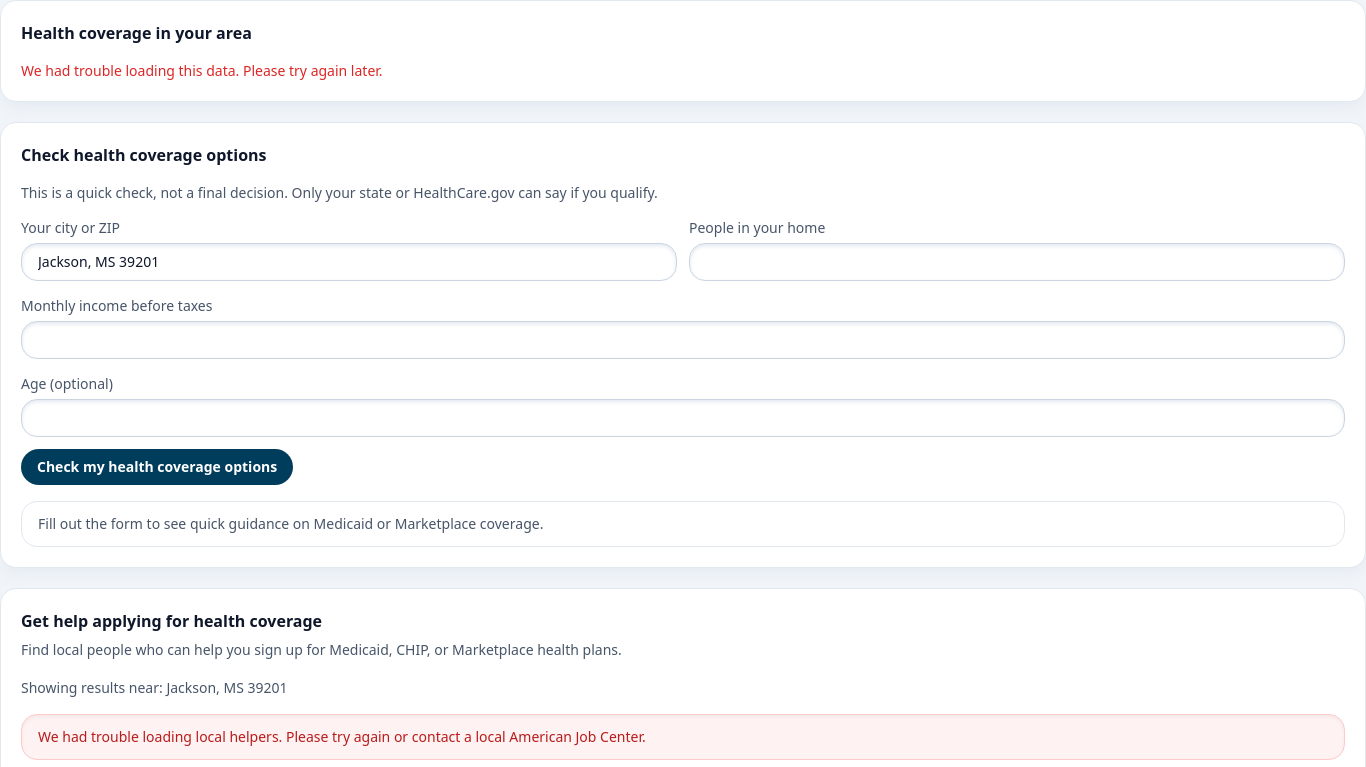
HealthCoveragePanel screener › shows summary after a successful check
Replace the text in the field labelled "Your city or ZIP" with "Jackson, MS" at (349, 262), box [21, 243, 677, 281]
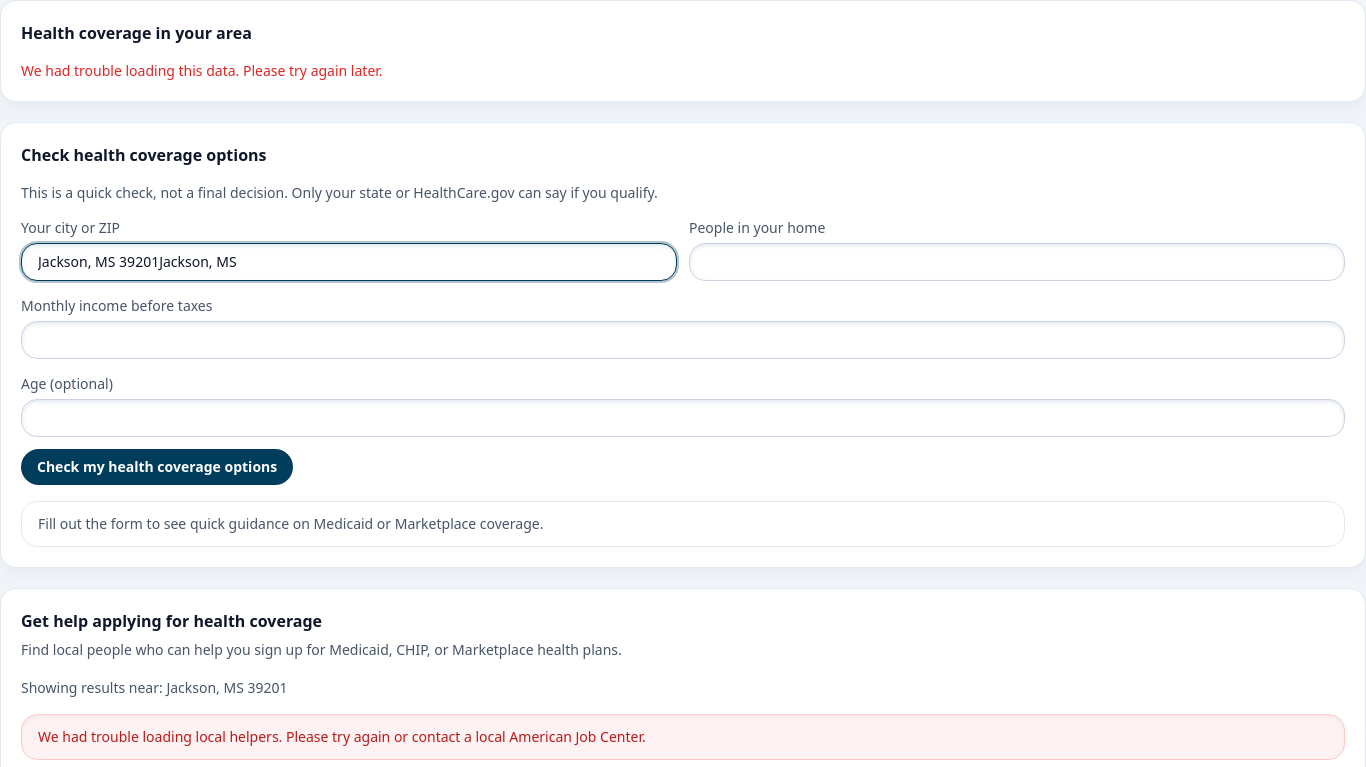
Type "3" into the number field labelled "People in your home" at (1017, 262), box [689, 243, 1345, 281]
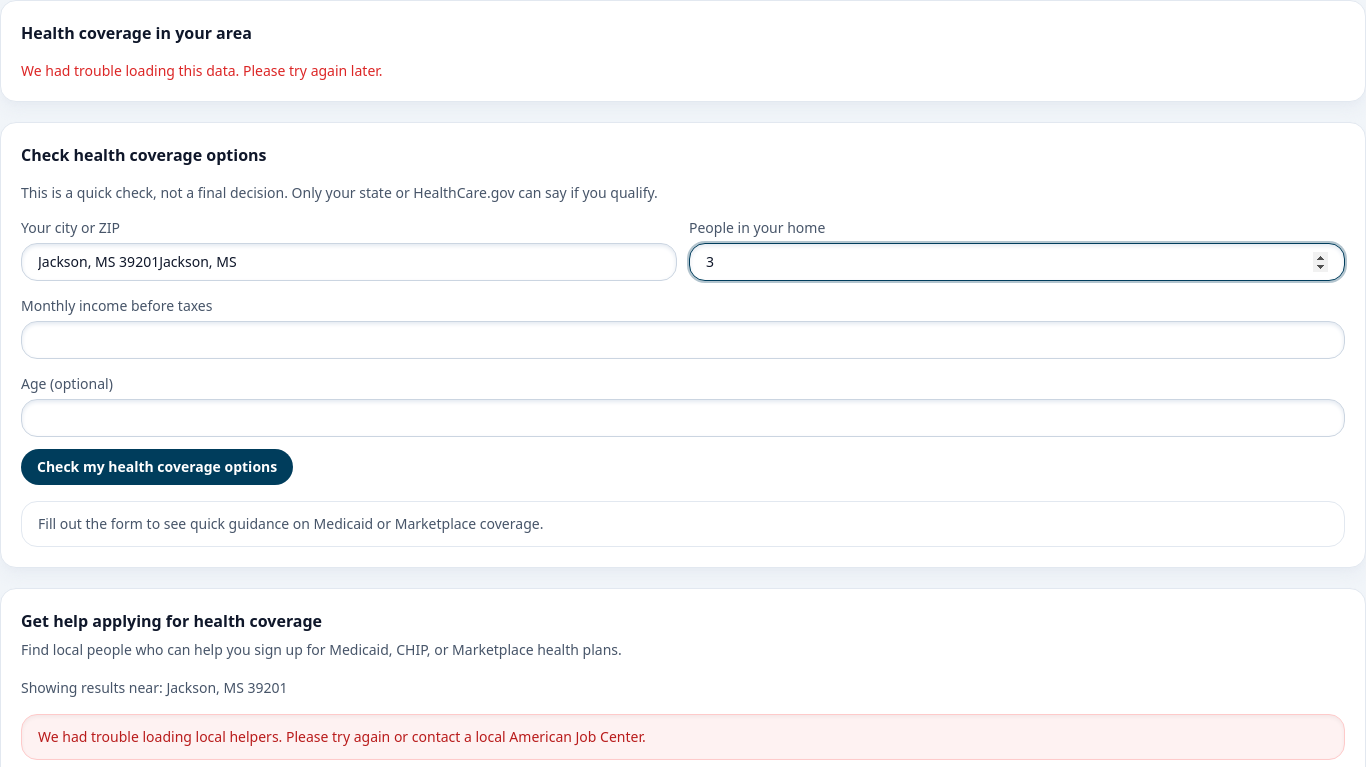
Type "4000" into the number field labelled "Monthly income before taxes" at (683, 340), box [21, 321, 1345, 359]
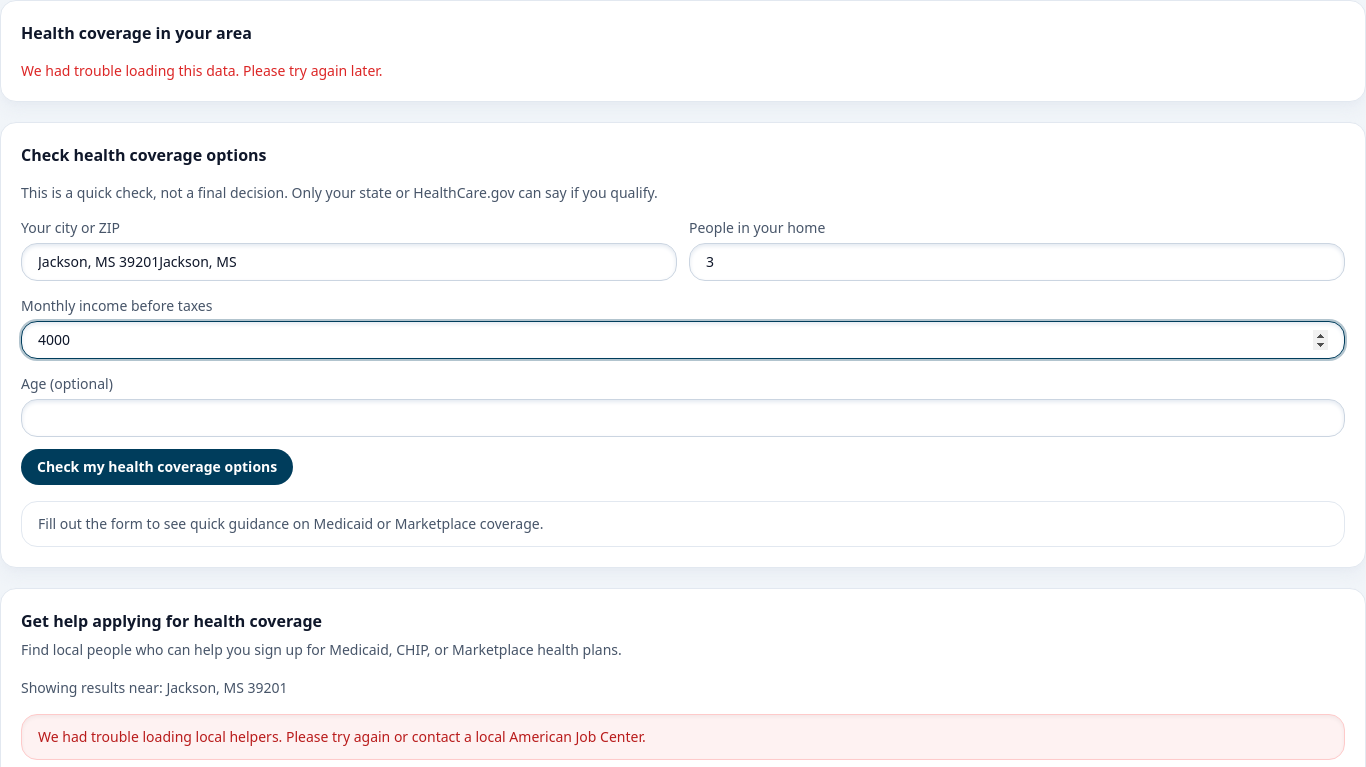
Click the button "Check my health coverage options" at (157, 467), box [21, 449, 293, 485]
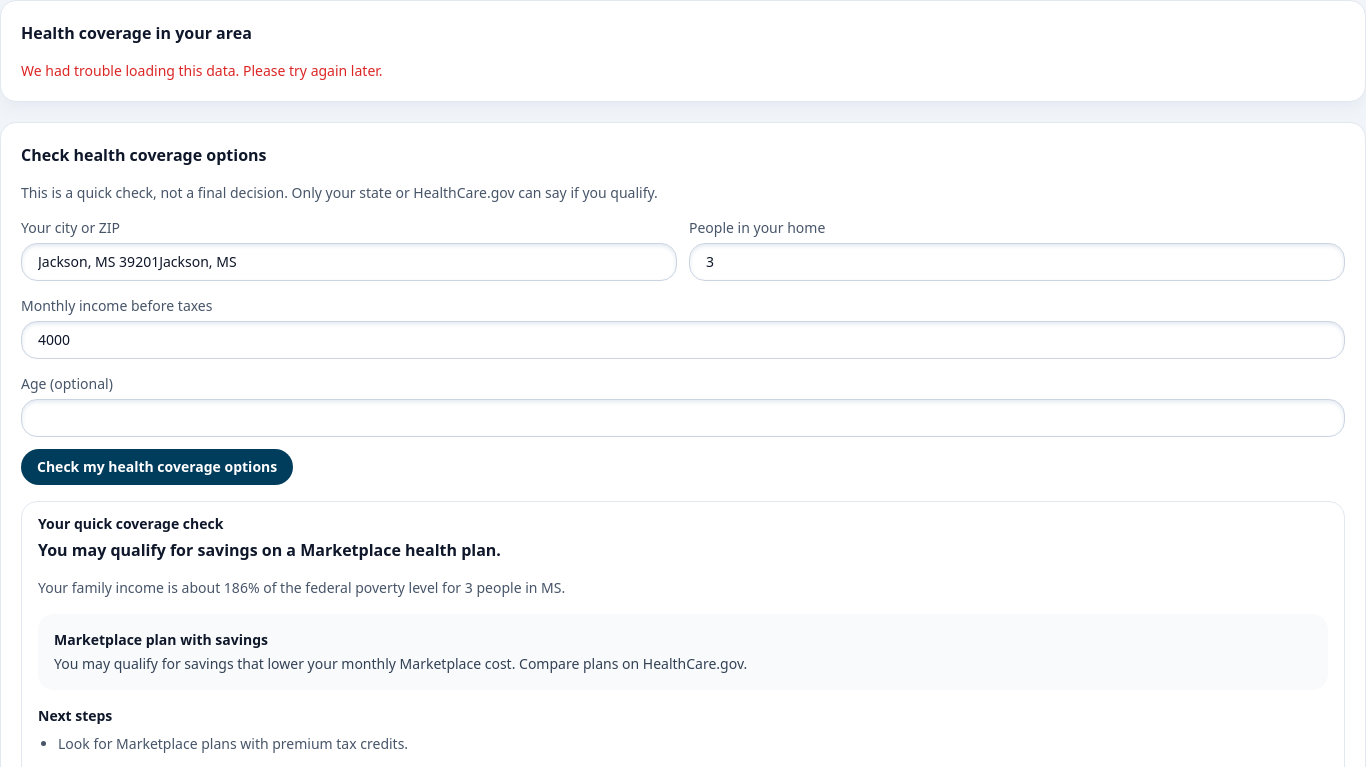
Expected: the text "your state or HealthCare.gov" is shown, [21, 183, 658, 202]
Now the text "Your quick coverage check" is shown, box [38, 514, 223, 533]
Now the text "186% of the federal poverty level" is shown, box [38, 578, 565, 597]
